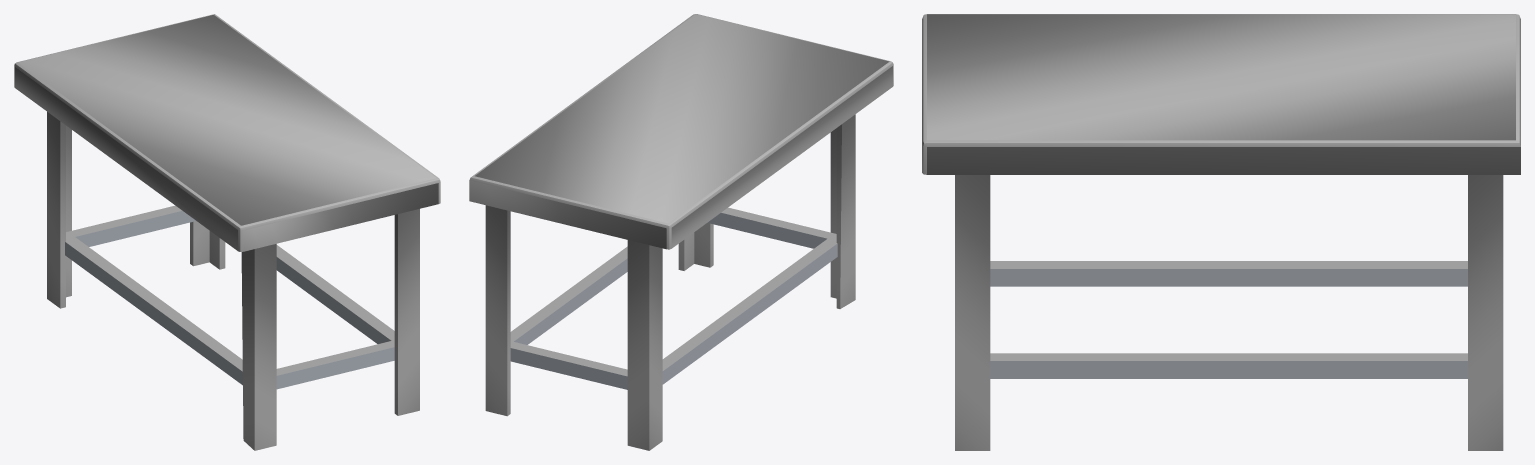
File: Kitchen_tabla_02.fbx
The picture shows the model from 3 angles, left to right: view 1: azimuth 30°, elevation 25°; view 2: azimuth 150°, elevation 25°; view 3: azimuth 270°, elevation 25°; orthographic projection. The views are drawn at different scales.
Visible parts, largest first — view 1: kitchen_table_02; view 2: kitchen_table_02; view 3: kitchen_table_02.
Part boxes in pixels (x1,y1,x2,y2): kitchen_table_02: (14,14,440,450); kitchen_table_02: (469,14,893,450); kitchen_table_02: (922,14,1520,450).
Bounding box in the file's own units: 1.29 × 1.45 × 2.5.
